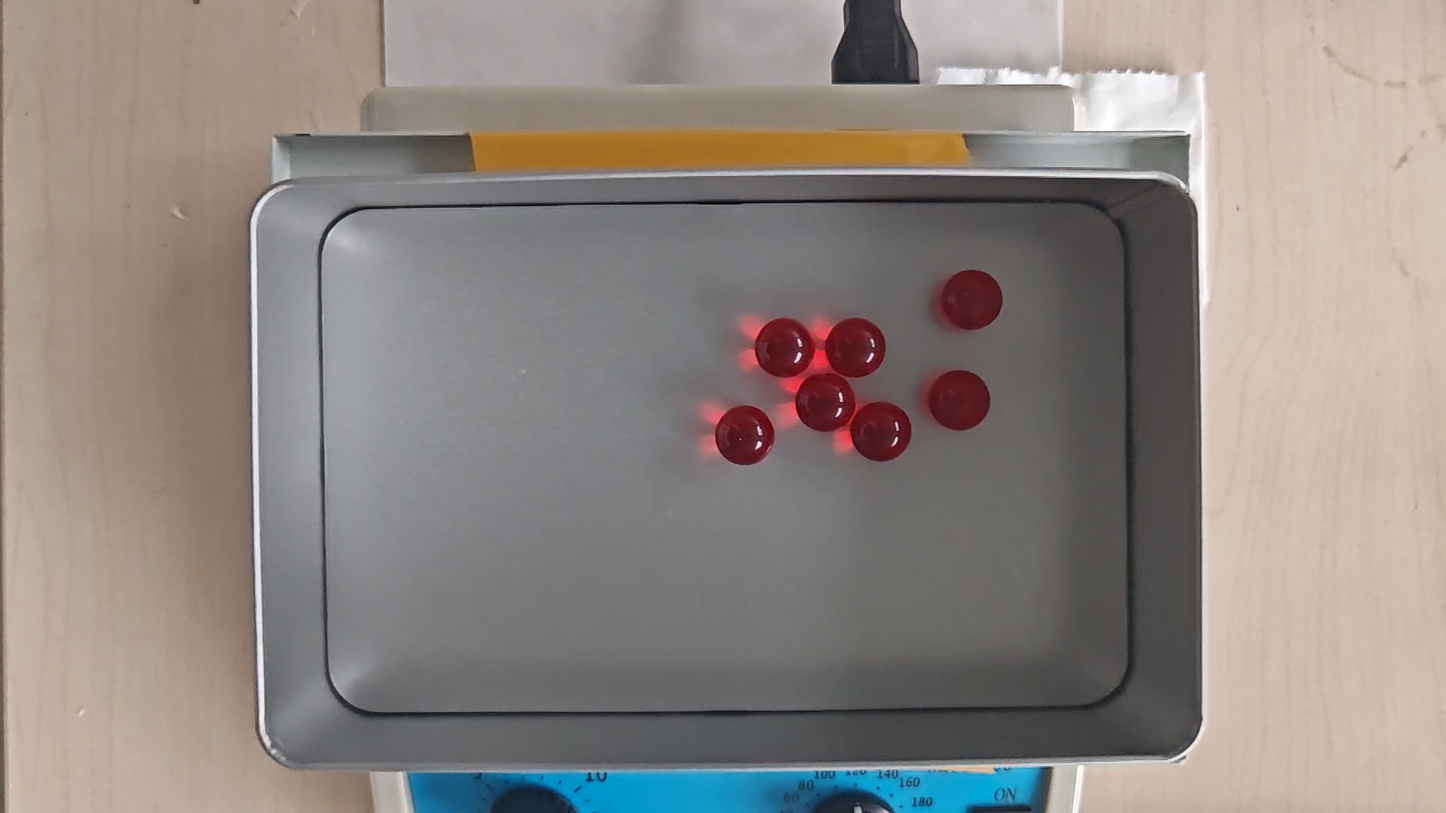ball: (938, 267, 1004, 331), (928, 370, 991, 434), (714, 404, 775, 467), (851, 400, 911, 463), (823, 318, 886, 377), (754, 317, 814, 378), (795, 374, 856, 432)
container: (317, 202, 1133, 711)
